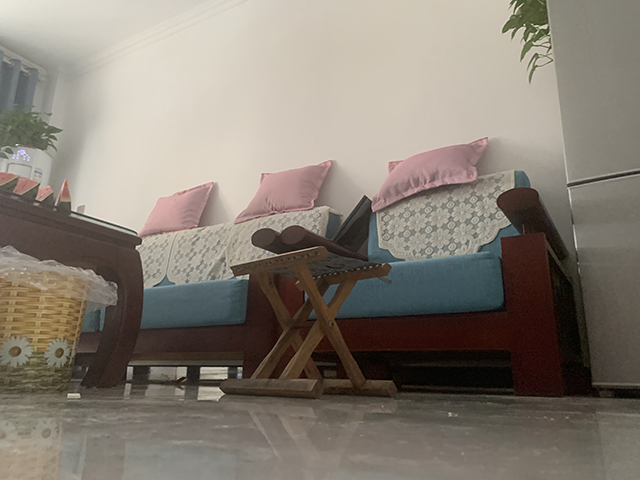sofa: (71, 135, 586, 397)
stool: (217, 245, 399, 399)
table: (1, 191, 145, 389)
trashcan: (1, 243, 94, 393)
